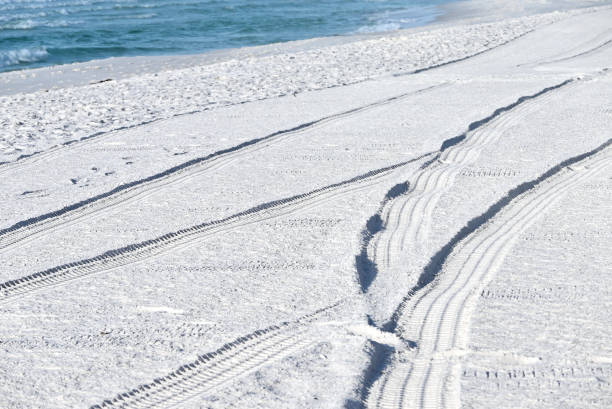vehicle_track: (0, 82, 448, 250), (367, 140, 611, 407), (0, 153, 433, 302), (369, 79, 577, 269), (91, 300, 342, 408), (517, 29, 611, 66)
